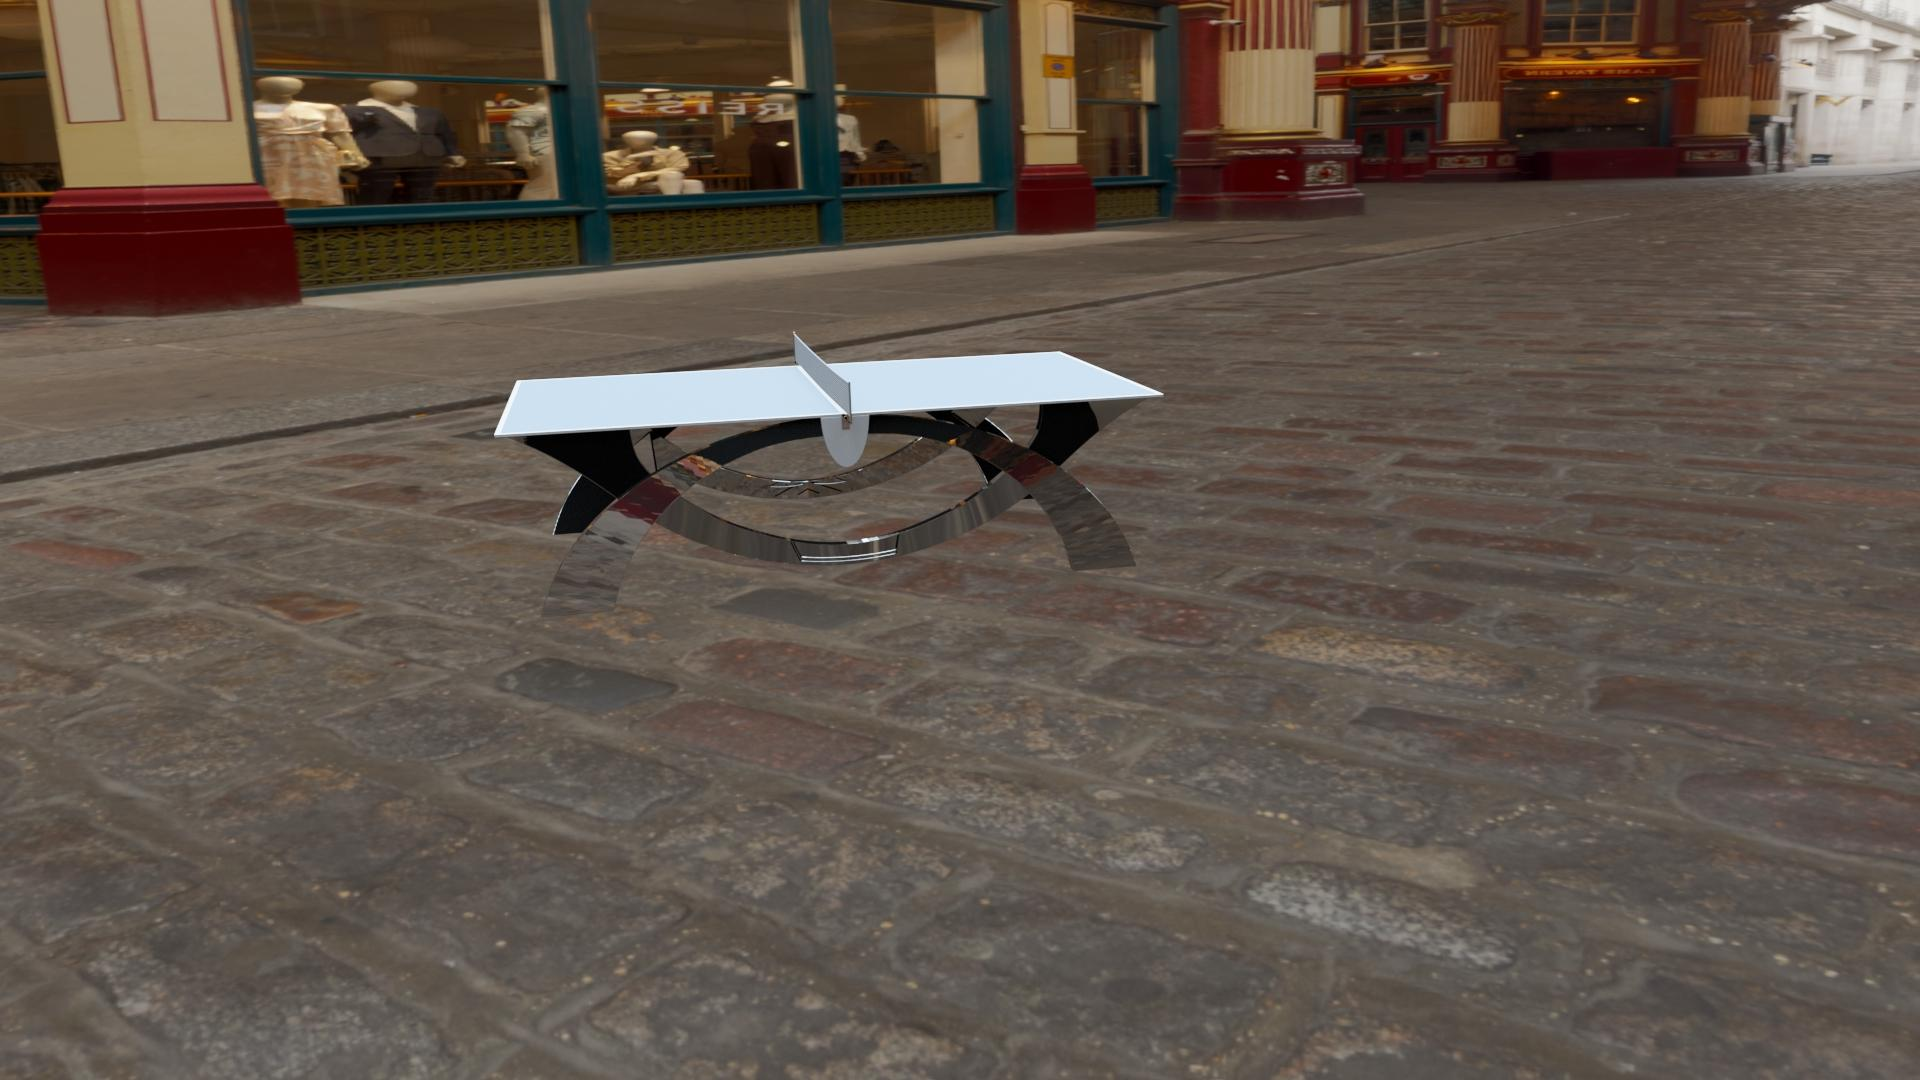table: (500, 353, 1157, 434)
